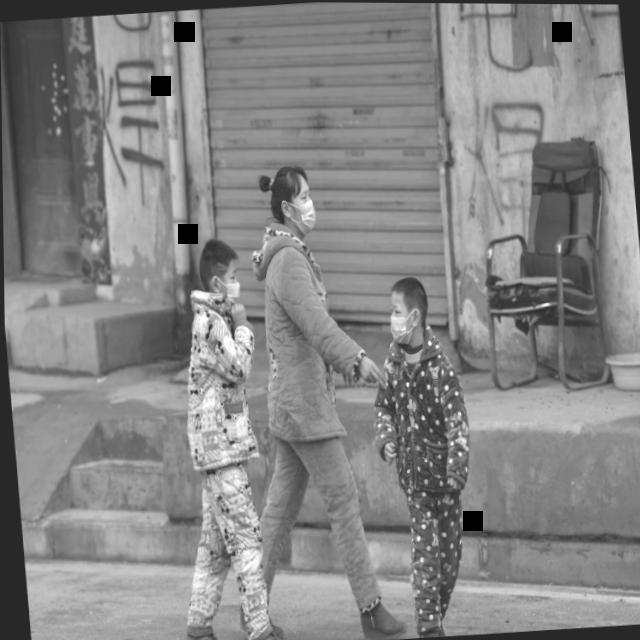Mask: (259, 157, 320, 243), (192, 230, 248, 316), (380, 270, 433, 352)
